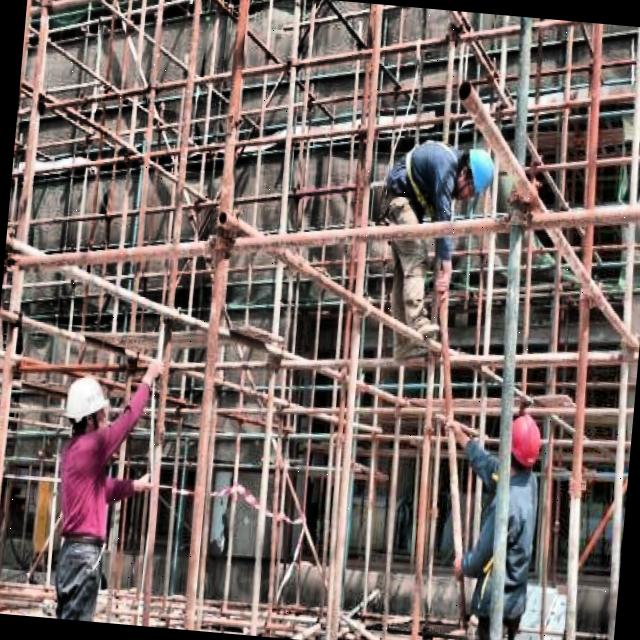helmet: (60, 373, 112, 448), (444, 143, 501, 203), (506, 409, 544, 472)
